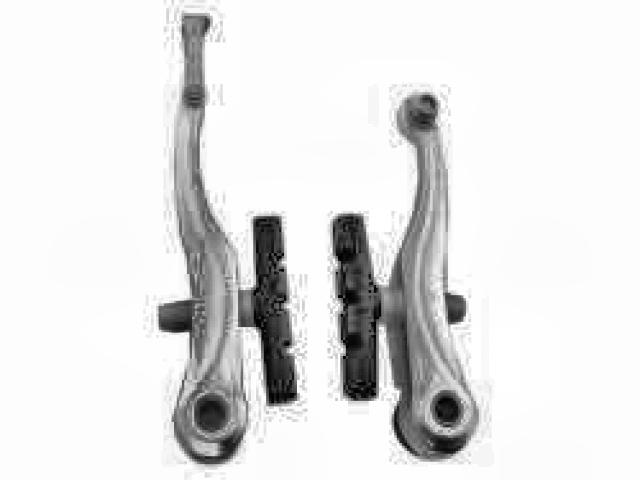rim_brake: (154, 85, 486, 463)
